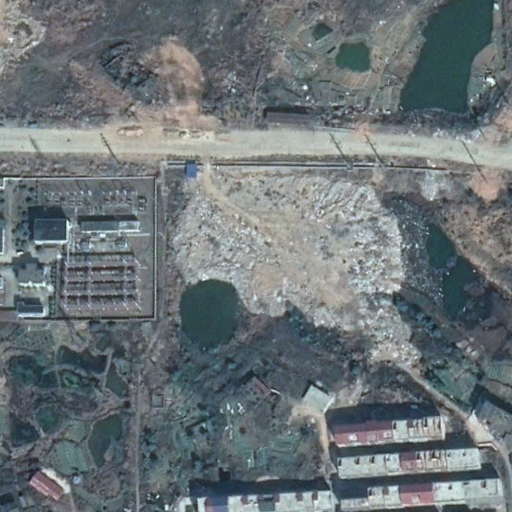msw: (167, 162, 421, 367)
